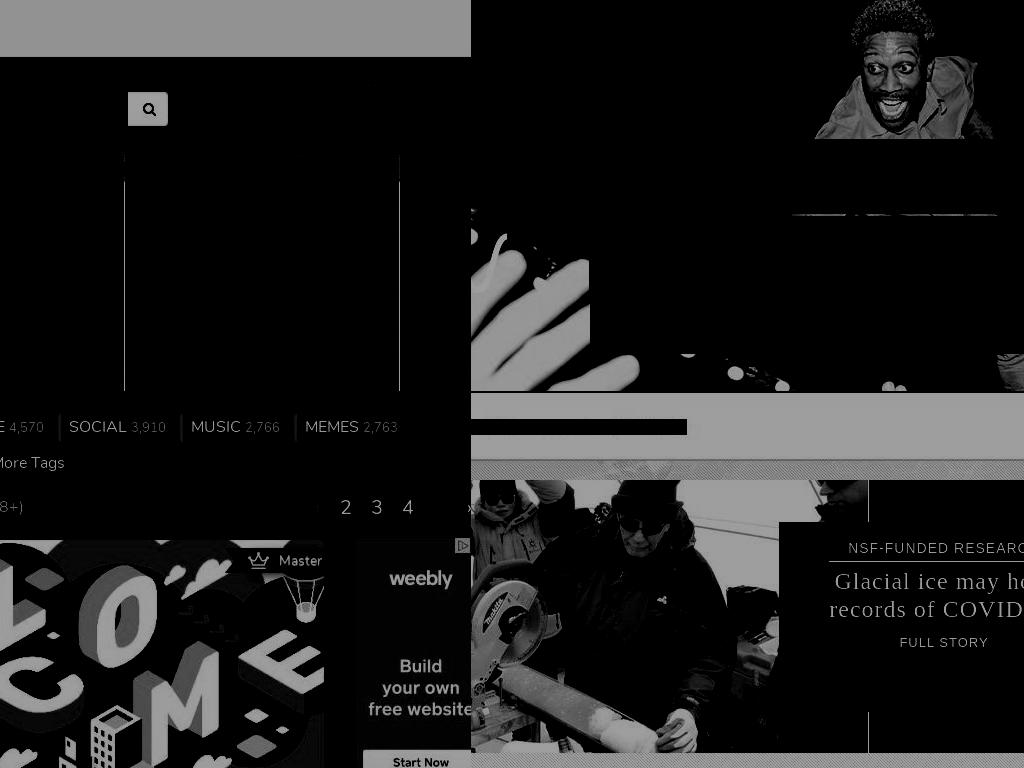button: (125, 156, 399, 391), (400, 156, 471, 391), (290, 635, 455, 664), (23, 598, 178, 627), (68, 561, 218, 590), (332, 672, 471, 701), (336, 487, 471, 516), (336, 561, 466, 590), (212, 450, 337, 479), (191, 524, 316, 553), (66, 524, 185, 553), (58, 413, 174, 442), (92, 450, 206, 479), (171, 635, 284, 664), (294, 413, 406, 442), (215, 672, 326, 701), (5, 672, 115, 701), (180, 413, 288, 442), (222, 487, 330, 516), (224, 561, 330, 590), (343, 450, 445, 479), (0, 420, 50, 477), (0, 487, 50, 544), (0, 554, 50, 611), (124, 487, 216, 516), (267, 598, 358, 627), (30, 487, 118, 516), (121, 672, 209, 701), (0, 450, 86, 479), (0, 635, 81, 664), (87, 635, 165, 664), (184, 598, 261, 627), (322, 524, 390, 553), (0, 561, 62, 590), (0, 484, 40, 528), (0, 524, 60, 553), (0, 413, 52, 442), (247, 552, 322, 569), (425, 494, 456, 522), (332, 494, 360, 522), (363, 494, 391, 522), (394, 494, 422, 522), (305, 497, 329, 519)
field: (0, 92, 128, 126)
heading: (589, 216, 1024, 291), (590, 290, 1024, 354), (736, 139, 1024, 214), (157, 354, 369, 391)
iframe: (356, 538, 471, 768)
link: (471, 419, 687, 435), (222, 69, 409, 83), (172, 162, 300, 177), (221, 112, 324, 128), (78, 162, 163, 177), (0, 162, 68, 177), (421, 112, 461, 128), (431, 69, 471, 83), (363, 112, 381, 128)
text: (125, 156, 399, 391), (400, 156, 471, 391), (301, 638, 423, 660), (34, 601, 146, 623), (343, 675, 452, 697), (79, 564, 186, 586), (347, 490, 444, 512), (347, 564, 434, 586), (202, 527, 284, 549), (77, 527, 153, 549), (226, 675, 302, 697), (223, 453, 294, 475), (182, 638, 252, 660), (16, 675, 83, 697), (233, 490, 298, 512), (0, 452, 65, 474), (235, 564, 298, 586), (69, 416, 131, 438), (103, 453, 163, 475), (305, 416, 363, 438), (191, 416, 245, 438), (132, 675, 185, 697), (135, 490, 184, 512), (0, 638, 49, 660), (354, 453, 402, 475), (278, 601, 326, 623), (41, 490, 86, 512), (6, 453, 43, 475), (98, 638, 133, 660), (195, 601, 229, 623), (0, 564, 30, 586), (279, 553, 322, 568), (9, 419, 44, 437), (131, 419, 166, 437), (245, 419, 280, 437), (363, 419, 398, 437), (43, 456, 78, 474), (163, 456, 198, 474), (294, 456, 329, 474), (402, 456, 437, 474), (0, 527, 28, 549), (333, 527, 358, 549), (0, 456, 44, 466), (0, 523, 44, 533), (0, 590, 44, 600), (86, 493, 110, 511), (184, 493, 208, 511), (298, 493, 322, 511), (444, 493, 468, 511), (28, 530, 52, 548), (153, 530, 177, 548), (284, 530, 308, 548), (358, 530, 382, 548), (30, 567, 54, 585), (186, 567, 210, 585), (298, 567, 322, 585), (434, 567, 458, 585), (146, 604, 170, 622), (229, 604, 253, 622), (326, 604, 350, 622), (49, 641, 73, 659), (133, 641, 157, 659), (252, 641, 276, 659), (423, 641, 447, 659), (83, 678, 107, 696), (0, 391, 44, 399), (0, 493, 16, 511), (185, 678, 201, 696), (302, 678, 318, 696), (452, 678, 468, 696), (0, 604, 9, 622)
